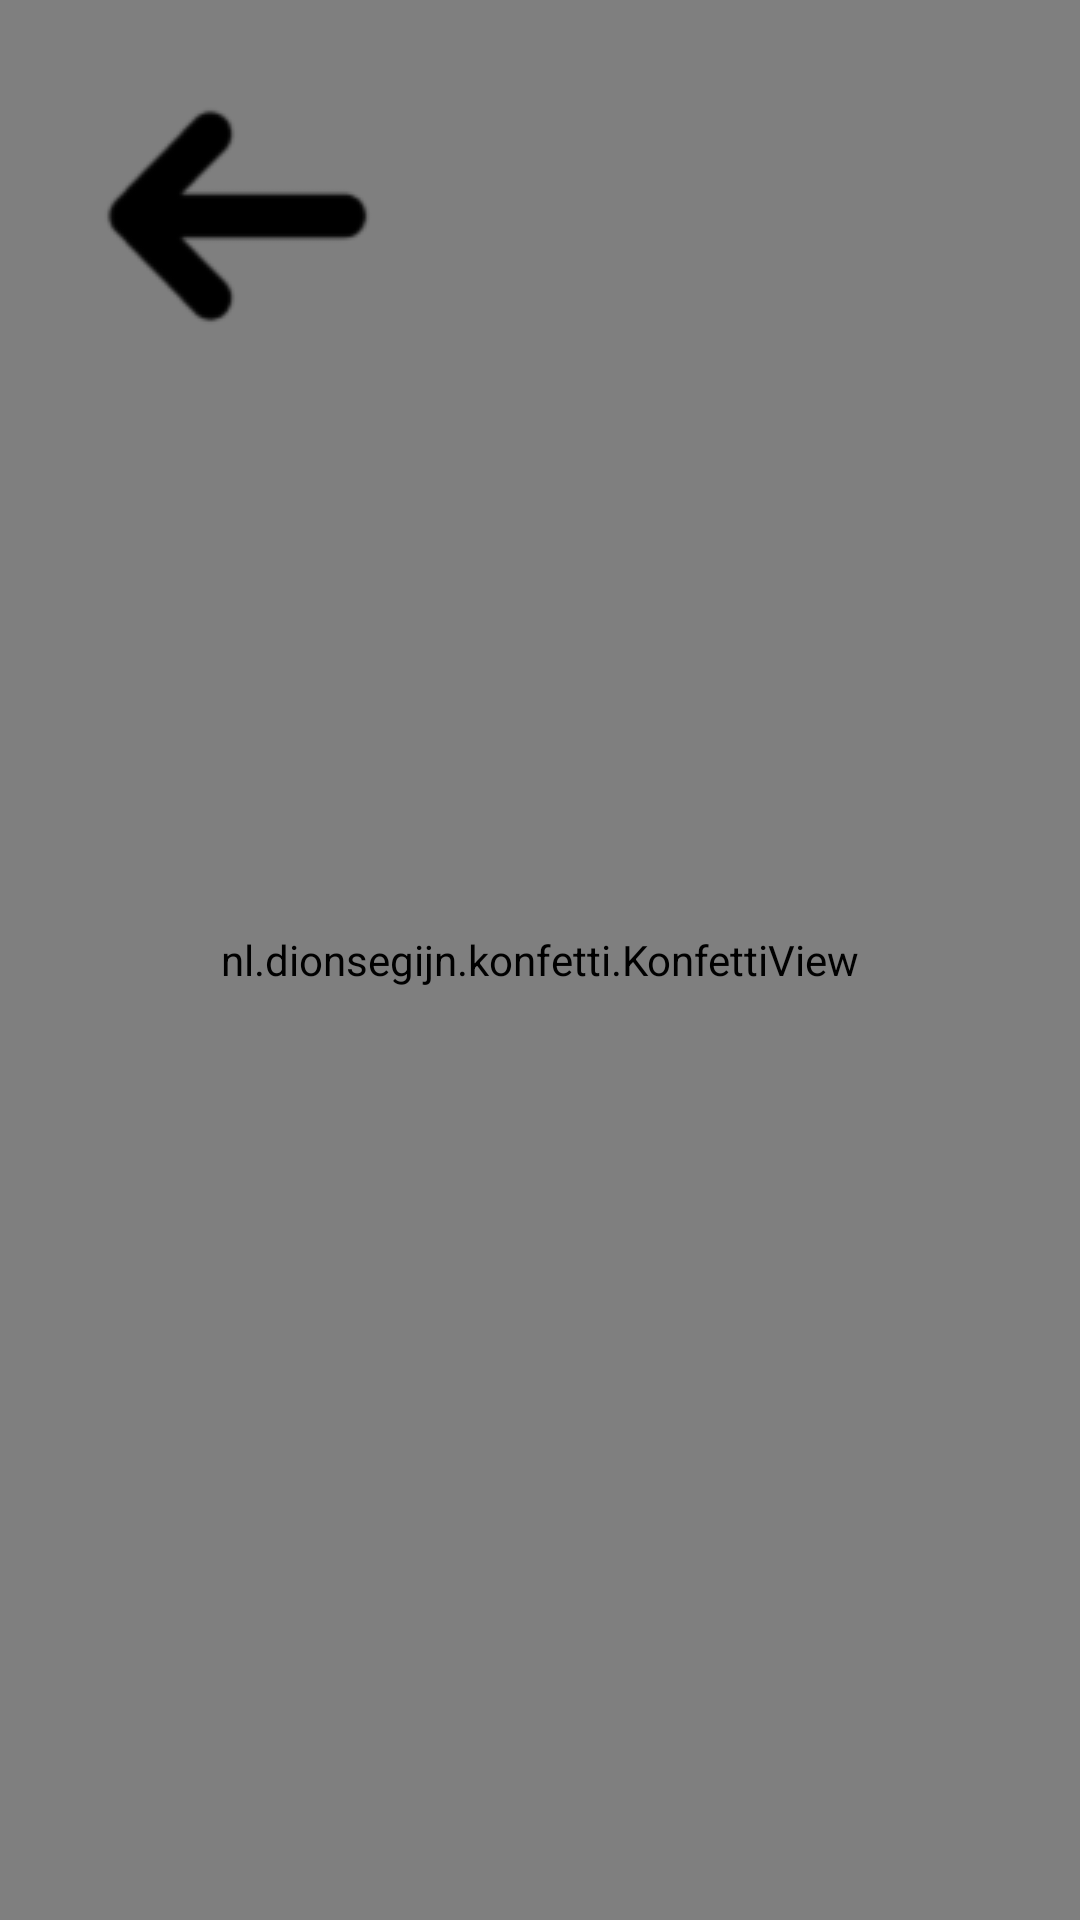

Locate icon controls on the screen. Image size 1080*1920, boxes as (x1, y1, x2, y2).
flecha atras: (107, 110, 367, 322)
